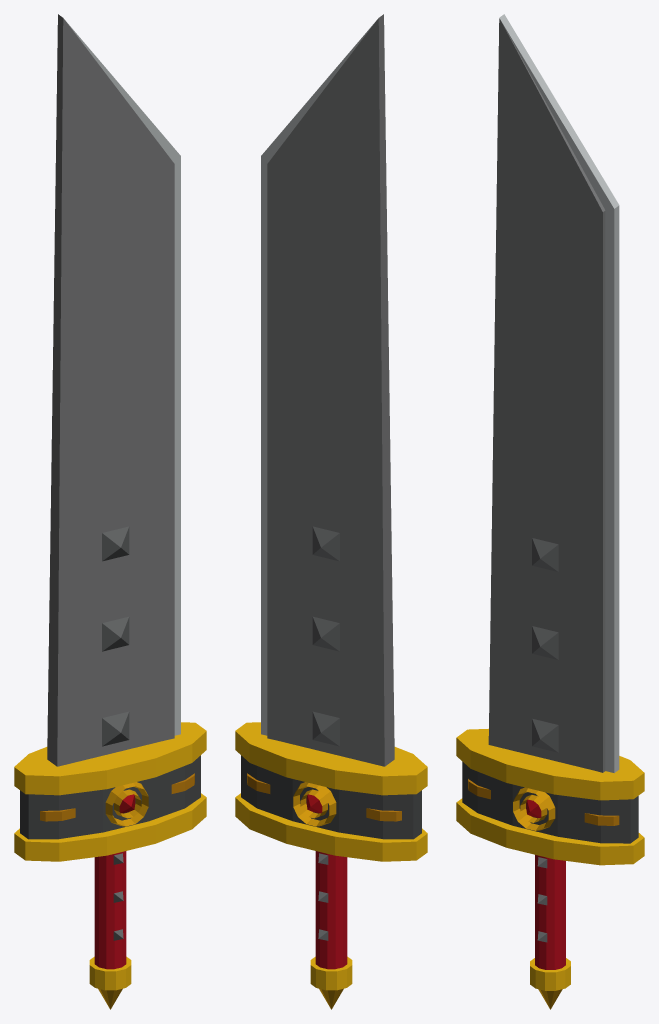
File: PSX STYLE RETRO BUSTER BLADE SWORD.fbx
3 views of the same model, side by side, from view 1: azimuth 30°, elevation 25°; view 2: azimuth 150°, elevation 25°; view 3: azimuth 330°, elevation 25° (orthographic). The views are drawn at different scales.
Parts seen in each view (by area): view 1: cuboid, cylinder_2, cylinder, cuboid_1, cylinder_4, cylinder_1, cylinder_3, torus, pyramid_11, pyramid_10, pyramid_9; view 2: cuboid, cylinder_2, cylinder, cuboid_1, cylinder_4, cylinder_1, cylinder_3, torus, pyramid_8, pyramid_7, pyramid_6; view 3: cuboid, cuboid_1, cylinder_2, cylinder, cylinder_4, cylinder_1, cylinder_3, torus, pyramid_9, pyramid_10, pyramid_11.
Boxes of the visible parts, x1,y1,x2,y2 form: cuboid: [47, 14, 174, 766]; cylinder_2: [14, 722, 206, 795]; cylinder: [20, 755, 200, 839]; cuboid_1: [64, 19, 180, 735]; cylinder_4: [14, 793, 206, 861]; cylinder_1: [94, 851, 126, 969]; cylinder_3: [89, 956, 131, 990]; torus: [105, 782, 148, 826]; pyramid_11: [102, 526, 129, 561]; pyramid_10: [102, 616, 129, 651]; pyramid_9: [102, 711, 129, 746]; cuboid: [267, 14, 394, 766]; cylinder_2: [235, 722, 427, 795]; cylinder: [241, 755, 421, 839]; cuboid_1: [261, 19, 377, 735]; cylinder_4: [235, 793, 427, 861]; cylinder_1: [315, 851, 347, 969]; cylinder_3: [310, 956, 352, 990]; torus: [293, 782, 336, 826]; pyramid_8: [312, 526, 339, 561]; pyramid_7: [312, 616, 339, 651]; pyramid_6: [312, 711, 339, 746]; cuboid: [488, 18, 605, 772]; cuboid_1: [499, 14, 619, 772]; cylinder_2: [456, 728, 644, 800]; cylinder: [462, 761, 638, 843]; cylinder_4: [456, 798, 644, 865]; cylinder_1: [535, 855, 565, 969]; cylinder_3: [530, 958, 570, 990]; torus: [513, 787, 555, 830]; pyramid_9: [532, 718, 558, 752]; pyramid_10: [532, 626, 558, 659]; pyramid_11: [532, 538, 558, 571].
Size of the model in its own units: 25 by 132 by 10.
Materials: 1 (1 with a texture image).
